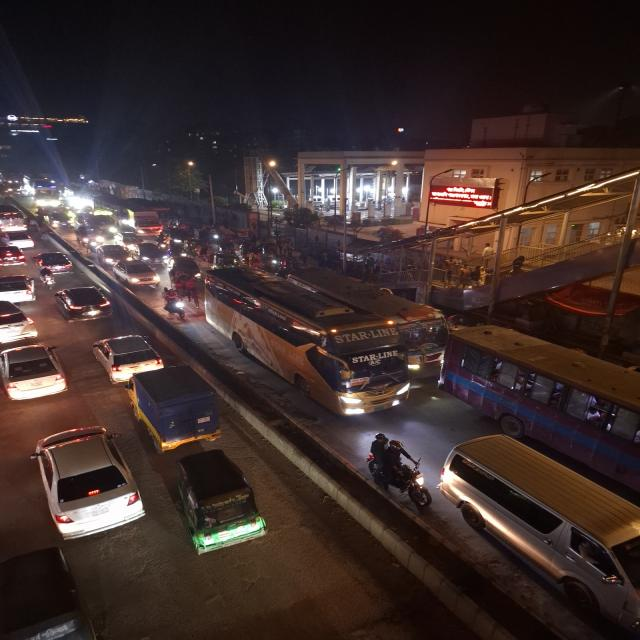bus: (445, 322, 638, 492), (200, 265, 414, 415), (0, 208, 28, 233)
car: (448, 439, 639, 631), (27, 422, 152, 540), (0, 341, 69, 405), (88, 331, 167, 383), (52, 284, 116, 324), (0, 301, 39, 343), (112, 259, 160, 290), (1, 274, 38, 306), (33, 251, 76, 274), (132, 242, 170, 266), (169, 256, 203, 280), (95, 243, 131, 265), (0, 244, 27, 266), (6, 232, 36, 248)
cng: (166, 450, 272, 558), (211, 252, 240, 270)
motorcycle: (365, 430, 431, 508), (157, 287, 190, 322), (38, 268, 56, 289)
pickup_van: (73, 224, 104, 246)
truck: (125, 367, 226, 452), (125, 206, 164, 236)
